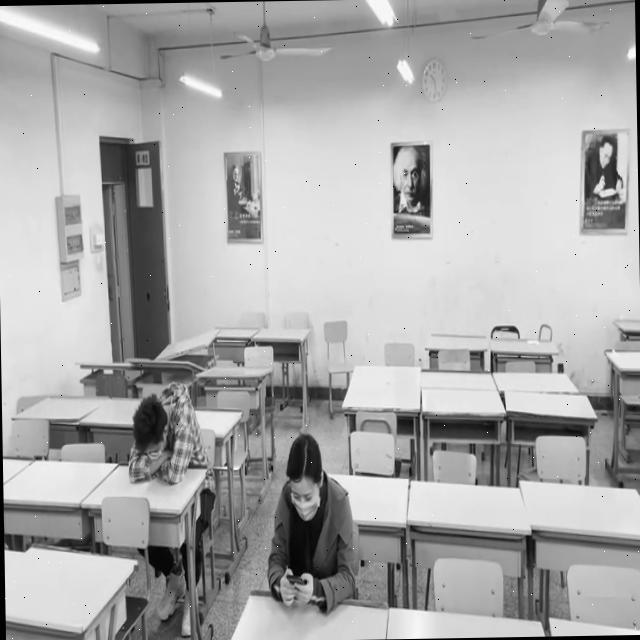phone: (267, 433, 354, 606)
sleep: (124, 384, 191, 481)
